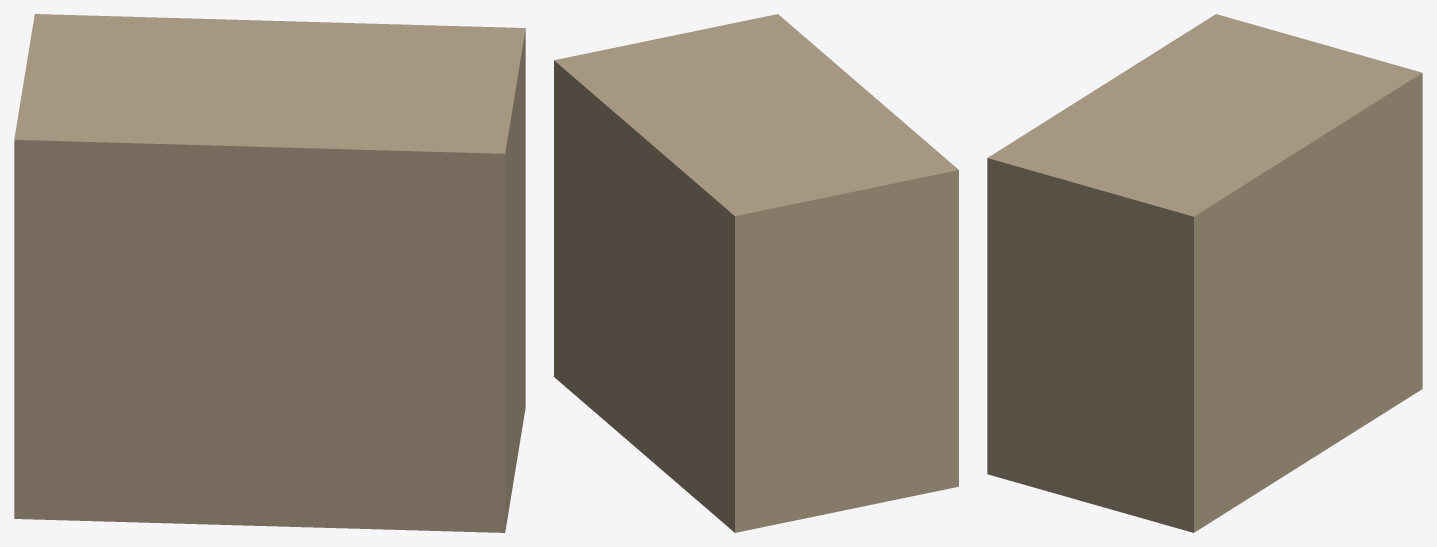
File: bld_100469349.dae
The picture shows the model from 3 angles, left to right: view 1: azimuth 30°, elevation 25°; view 2: azimuth 150°, elevation 25°; view 3: azimuth 270°, elevation 25°; orthographic projection. The views are drawn at different scales.
Parts seen in each view (by area): view 1: bld_100469349; view 2: bld_100469349; view 3: bld_100469349.
Part boxes in pixels (box(x1,y1,x2,y2)): bld_100469349: box(14, 14, 525, 532); bld_100469349: box(554, 14, 958, 532); bld_100469349: box(987, 14, 1422, 532).
Size of the model in its own units: 11 by 9.98 by 8.
